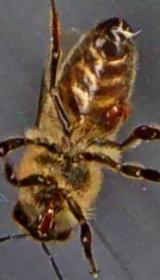varroa_mite: (102, 93, 130, 126)
